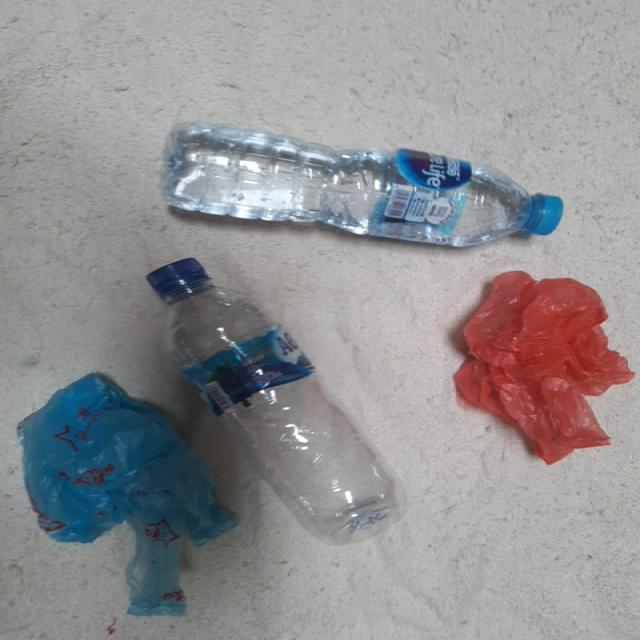Single-layer Plastic: (18, 372, 236, 616), (454, 271, 634, 463)
